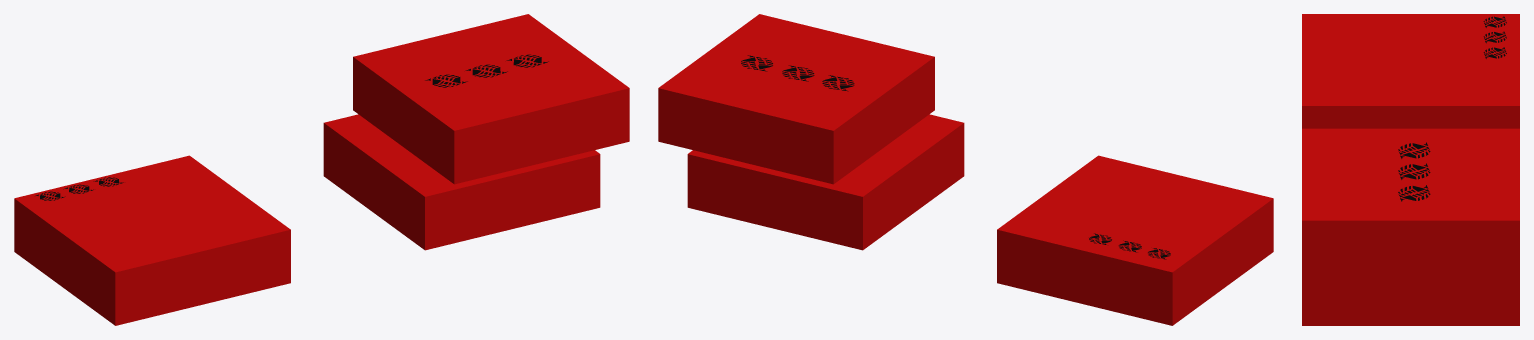
The model's file is Sushi_Box_1.glb.
3 renders of one model, left to right at view 1: azimuth 30°, elevation 25°; view 2: azimuth 150°, elevation 25°; view 3: azimuth 270°, elevation 25°, orthographic. The views are drawn at different scales.
Parts seen in each view (by area): view 1: sushi_bar_box_03_geo; view 2: sushi_bar_box_03_geo; view 3: sushi_bar_box_03_geo.
Boxes of the visible parts, x1=… form: sushi_bar_box_03_geo: x1=14, y1=14, x2=629, y2=325; sushi_bar_box_03_geo: x1=658, y1=14, x2=1273, y2=325; sushi_bar_box_03_geo: x1=1302, y1=14, x2=1519, y2=325.
Bounding box in the file's own units: 1.13 × 0.2368 × 0.3838.
Materials: 1 (1 with a texture image).
